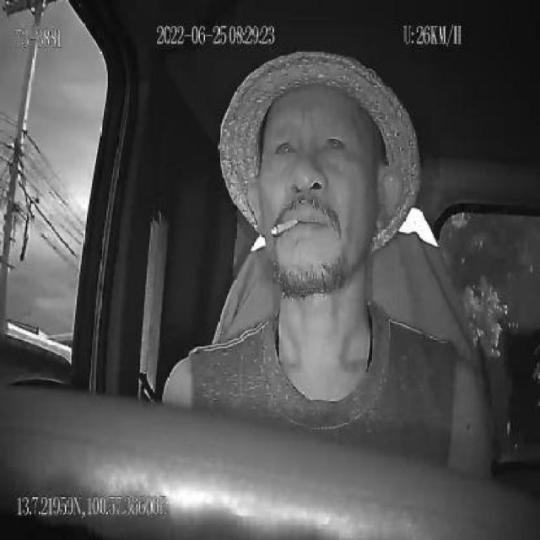smoking: (271, 216, 299, 240)
